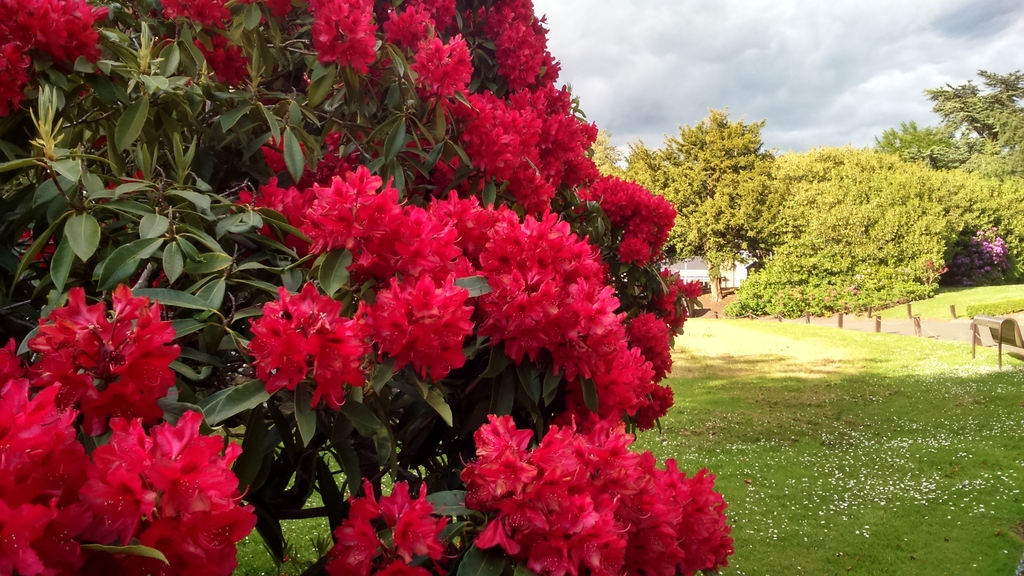Tree: (594, 65, 1024, 299)
